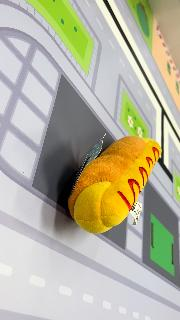hotdog: (67, 135, 162, 235)
